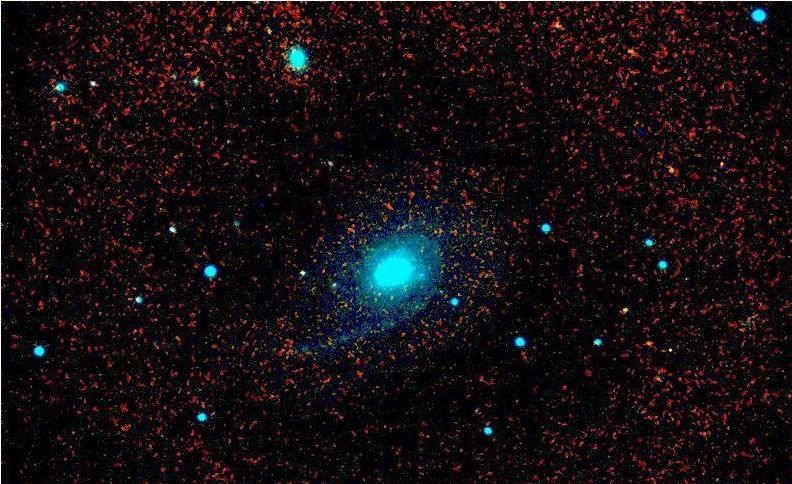star: (604, 293, 634, 323)
